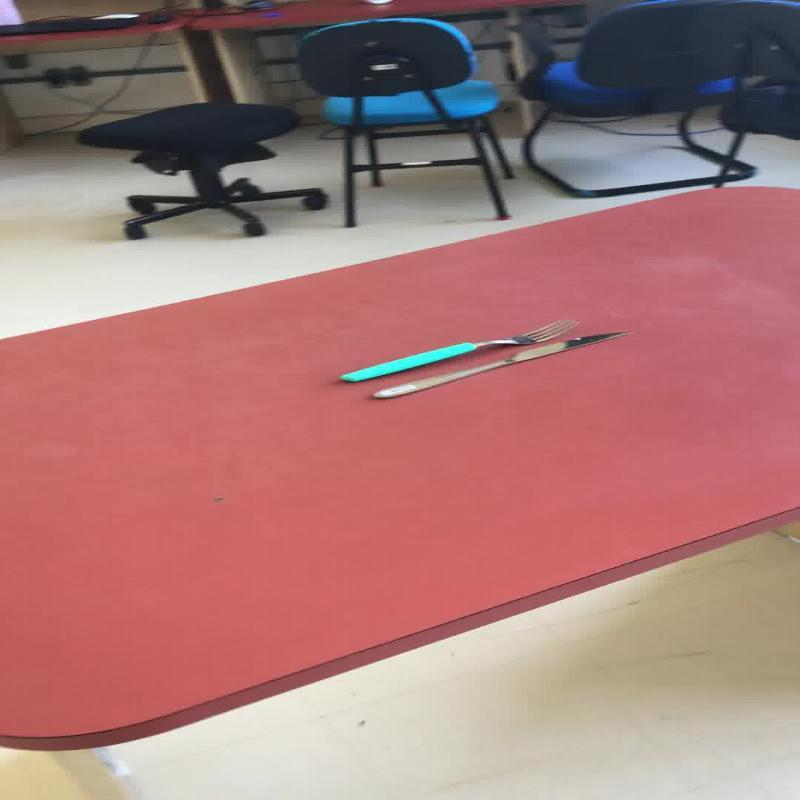fork: (337, 318, 577, 382)
knife: (370, 328, 630, 400)
